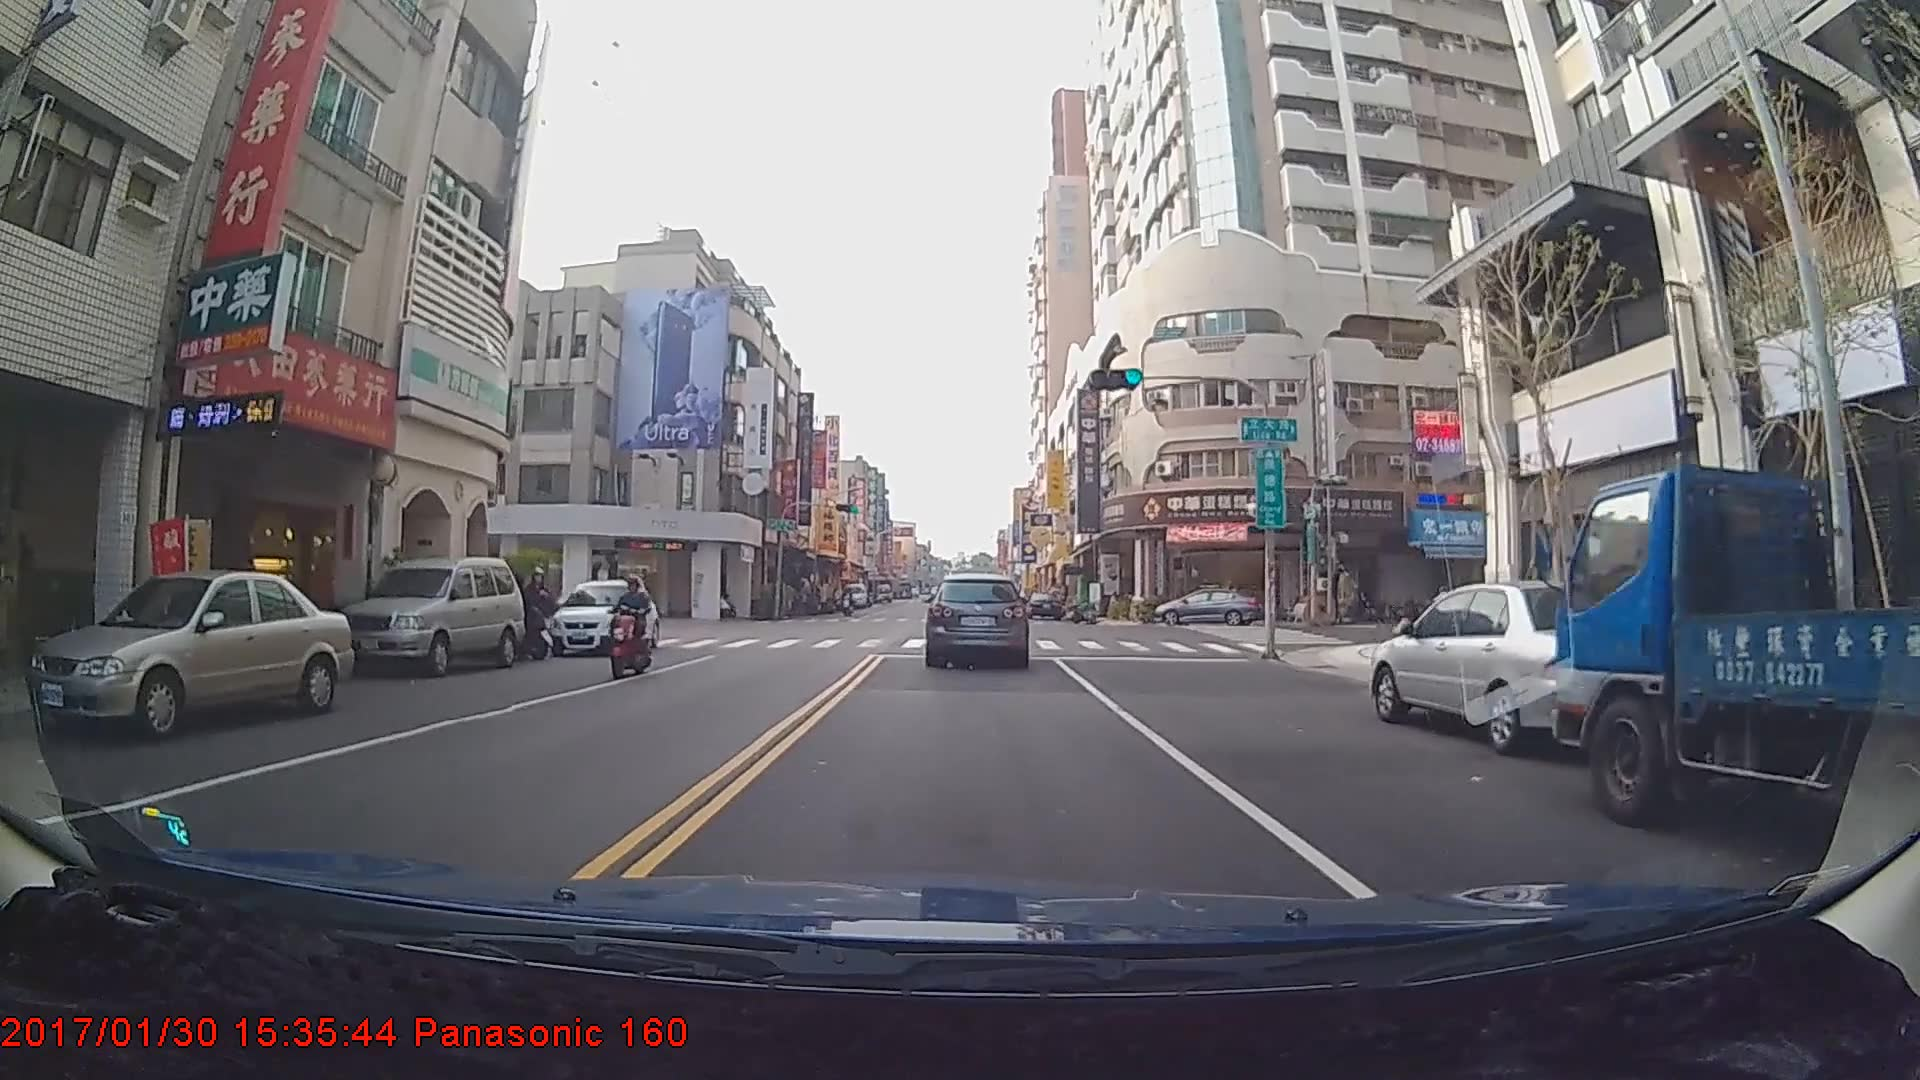rider: (600, 575, 650, 681), (836, 585, 858, 619)
vehicle: (1556, 461, 1920, 894), (24, 569, 351, 742), (1370, 579, 1666, 757), (336, 554, 526, 676), (926, 572, 1029, 668), (548, 578, 657, 656), (1153, 587, 1260, 626), (1024, 589, 1062, 620), (841, 581, 865, 609)
